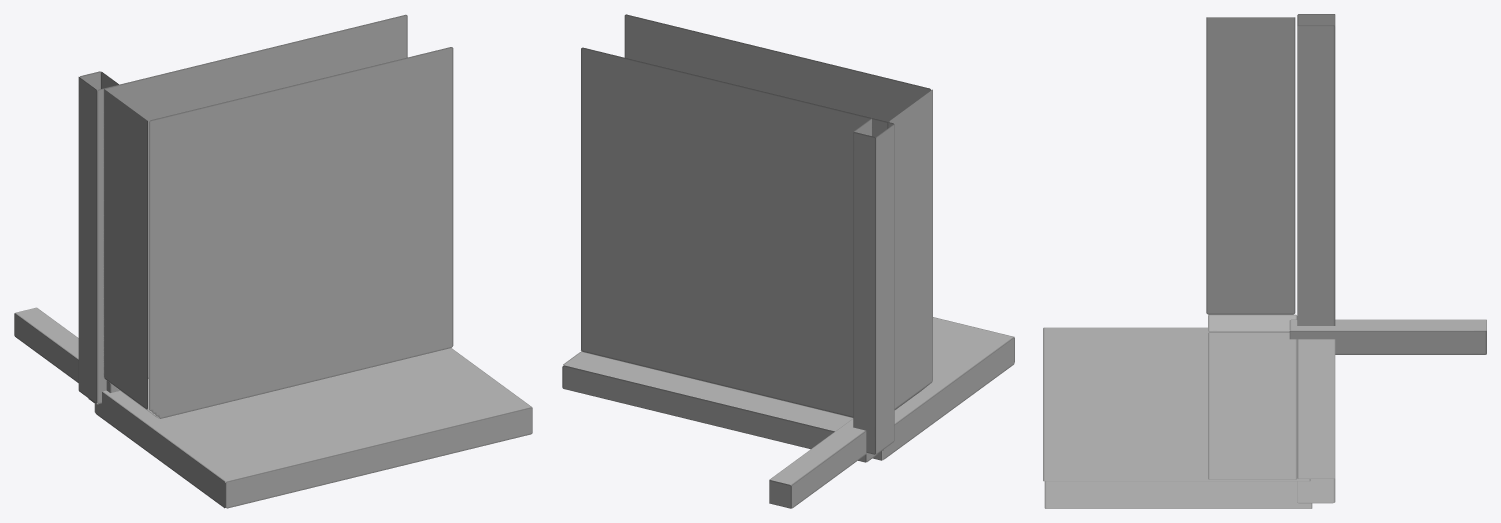
The model's file is pz_bed_bedding_01_large_oak_0_0.obj.
The picture shows the model from 3 angles, left to right: view 1: azimuth 30°, elevation 25°; view 2: azimuth 150°, elevation 25°; view 3: azimuth 270°, elevation 25°; orthographic projection. The views are drawn at different scales.
Size of the model in its own units: 0.975 by 0.985 by 1.17.
Materials: 1 (1 with a texture image).
